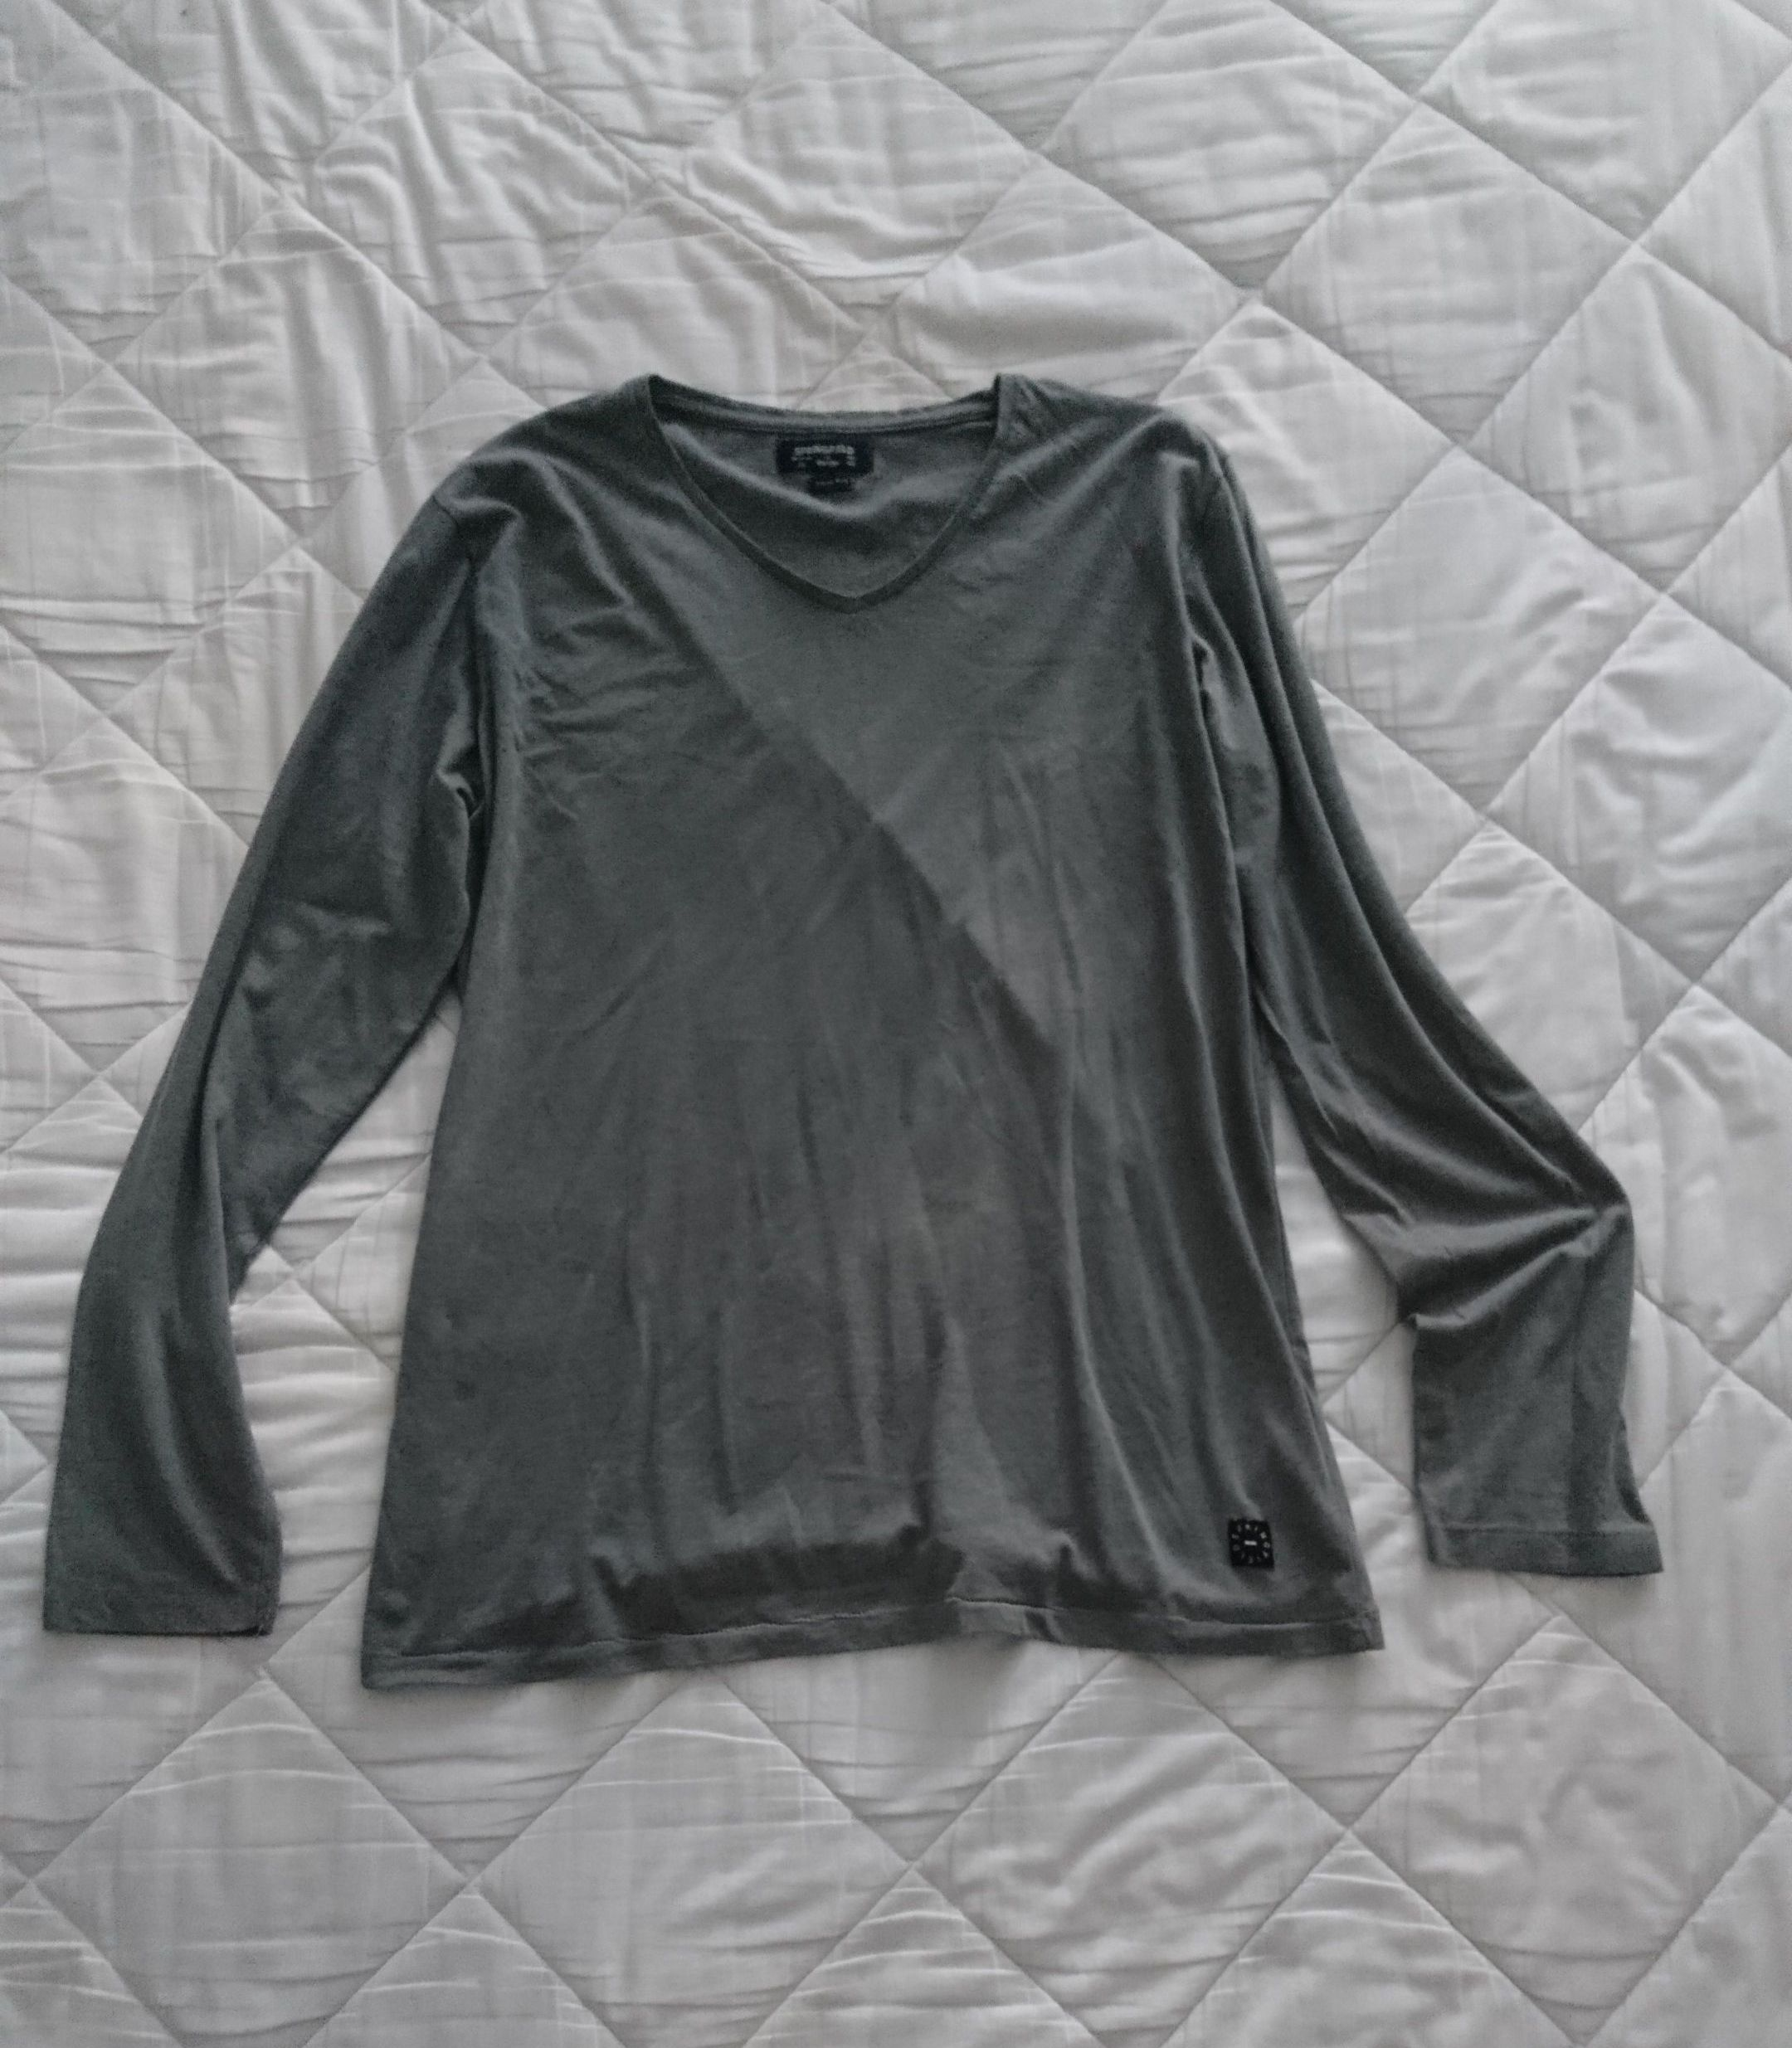clothes: (30, 378, 1647, 1653)
